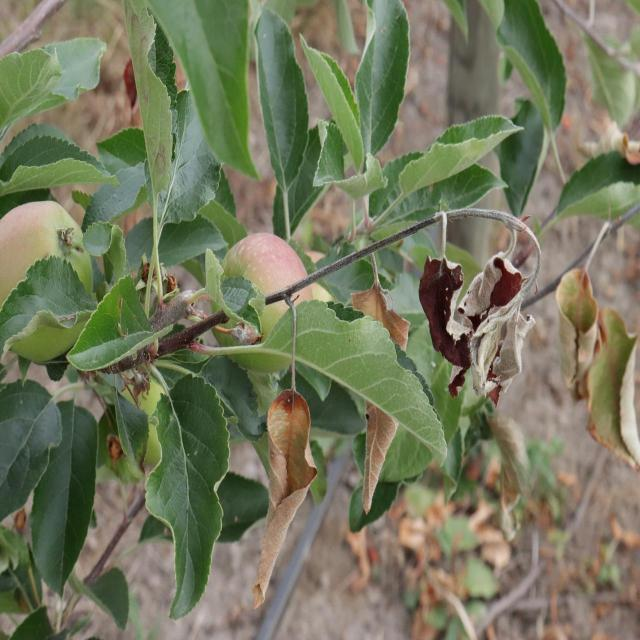-FireBlight-: (250, 371, 327, 614), (419, 255, 533, 408), (561, 269, 639, 464), (350, 409, 397, 521), (350, 273, 407, 361)
